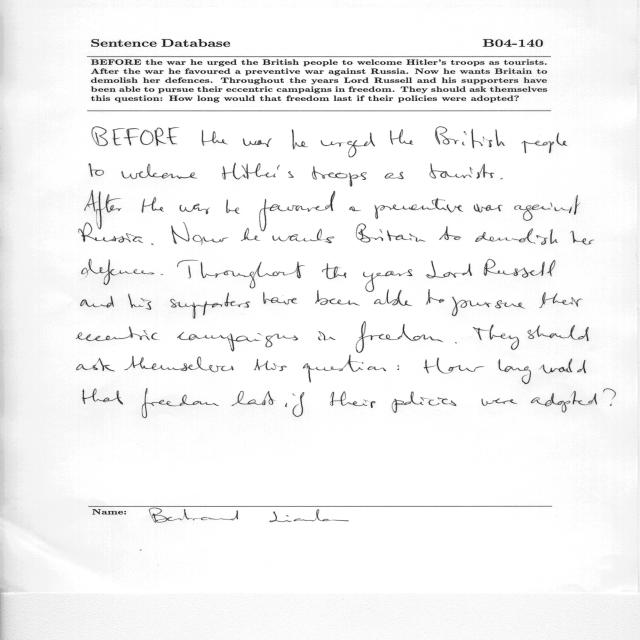word: (177, 260, 305, 288), (259, 191, 335, 231), (356, 321, 443, 353), (142, 388, 219, 418), (177, 332, 298, 351), (303, 355, 386, 382), (171, 293, 251, 319), (82, 259, 154, 285), (375, 198, 464, 219), (125, 356, 234, 372), (514, 195, 580, 221), (92, 127, 179, 146), (435, 127, 505, 148), (392, 391, 457, 413), (475, 228, 558, 245), (452, 297, 526, 316), (85, 191, 121, 230), (531, 391, 597, 412), (321, 133, 375, 158), (484, 259, 555, 278), (79, 223, 143, 244), (356, 224, 426, 243), (171, 222, 228, 245), (76, 326, 159, 341), (222, 163, 294, 180), (473, 324, 519, 350), (121, 164, 197, 179), (312, 166, 366, 187), (363, 269, 412, 292), (430, 163, 495, 179), (528, 325, 589, 341), (522, 133, 568, 154), (424, 358, 484, 374), (273, 229, 335, 243), (426, 261, 472, 279), (498, 359, 531, 384), (330, 391, 376, 408), (539, 359, 586, 374), (539, 292, 583, 308), (315, 290, 360, 305), (232, 391, 276, 406), (83, 389, 124, 405), (374, 289, 412, 306), (77, 358, 115, 371), (285, 392, 304, 417), (263, 292, 298, 304), (202, 130, 228, 146), (80, 296, 114, 308), (253, 359, 287, 371), (322, 263, 346, 279), (128, 294, 152, 310), (390, 129, 413, 145), (142, 197, 164, 213), (570, 231, 594, 245), (292, 130, 308, 150), (439, 226, 461, 240), (180, 204, 210, 214), (482, 398, 518, 406), (427, 290, 445, 305), (243, 138, 272, 147), (474, 204, 503, 213), (241, 228, 260, 241), (603, 388, 616, 406), (89, 163, 104, 177), (226, 199, 240, 214), (318, 331, 336, 340), (385, 172, 404, 179), (349, 207, 361, 212), (397, 365, 399, 370), (151, 243, 154, 245), (455, 342, 457, 344), (500, 178, 503, 179), (160, 274, 163, 275)
